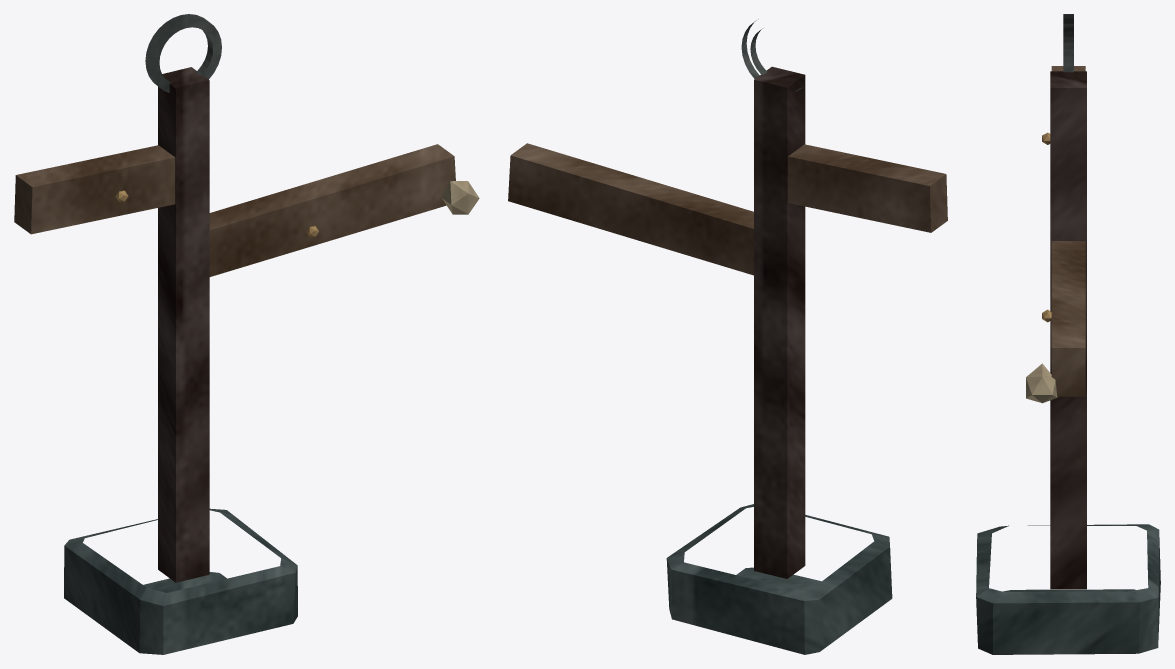
The model's file is 0644_signpost_19.glb.
3 renders of one model, left to right at view 1: azimuth 30°, elevation 25°; view 2: azimuth 150°, elevation 25°; view 3: azimuth 270°, elevation 25°, orthographic. The views are drawn at different scales.
Visible parts, largest first — view 1: wood, wood_dark, stone_dark, iron, bone; view 2: wood, wood_dark, stone_dark, iron; view 3: wood_dark, stone_dark, wood, bone, iron.
Part boxes in pixels (x1,y1,x2,y2): wood: [14, 144, 455, 276]; wood_dark: [158, 67, 209, 582]; stone_dark: [64, 508, 297, 654]; iron: [145, 14, 221, 92]; bone: [442, 181, 479, 214]; wood: [508, 143, 947, 275]; wood_dark: [754, 66, 805, 578]; stone_dark: [666, 504, 892, 654]; iron: [741, 20, 803, 92]; wood_dark: [1050, 71, 1086, 589]; stone_dark: [976, 524, 1160, 654]; wood: [1051, 66, 1085, 396]; bone: [1026, 363, 1057, 403]; iron: [1063, 14, 1073, 72].
Size of the model in its own units: 1.97 by 2.55 by 0.7064.
6 materials, 6 textured.
